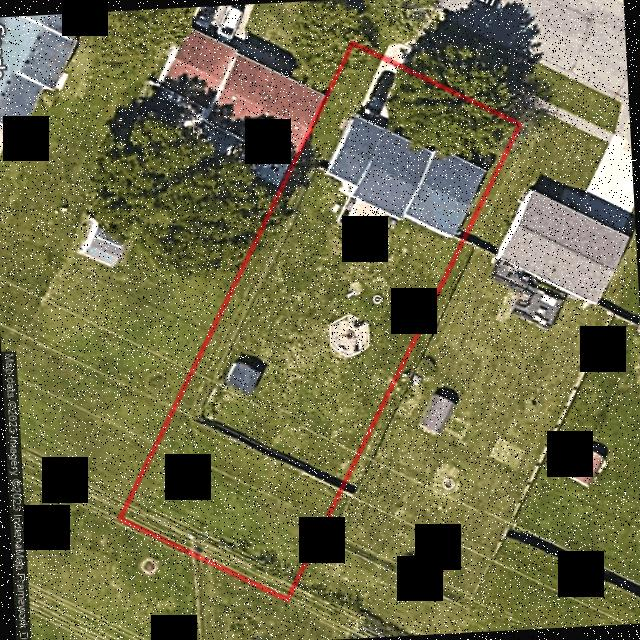Driveway: (356, 59, 408, 135)
Extra Driveway: (383, 0, 442, 63)
Extra Lawn: (420, 16, 551, 95), (401, 45, 531, 123), (352, 20, 393, 54), (368, 0, 407, 28)
Extra Sidewalk: (413, 39, 537, 104), (363, 11, 399, 37)
House: (324, 115, 485, 236)
Other: (338, 196, 396, 241), (329, 313, 370, 355), (225, 362, 261, 394), (372, 293, 383, 303)
